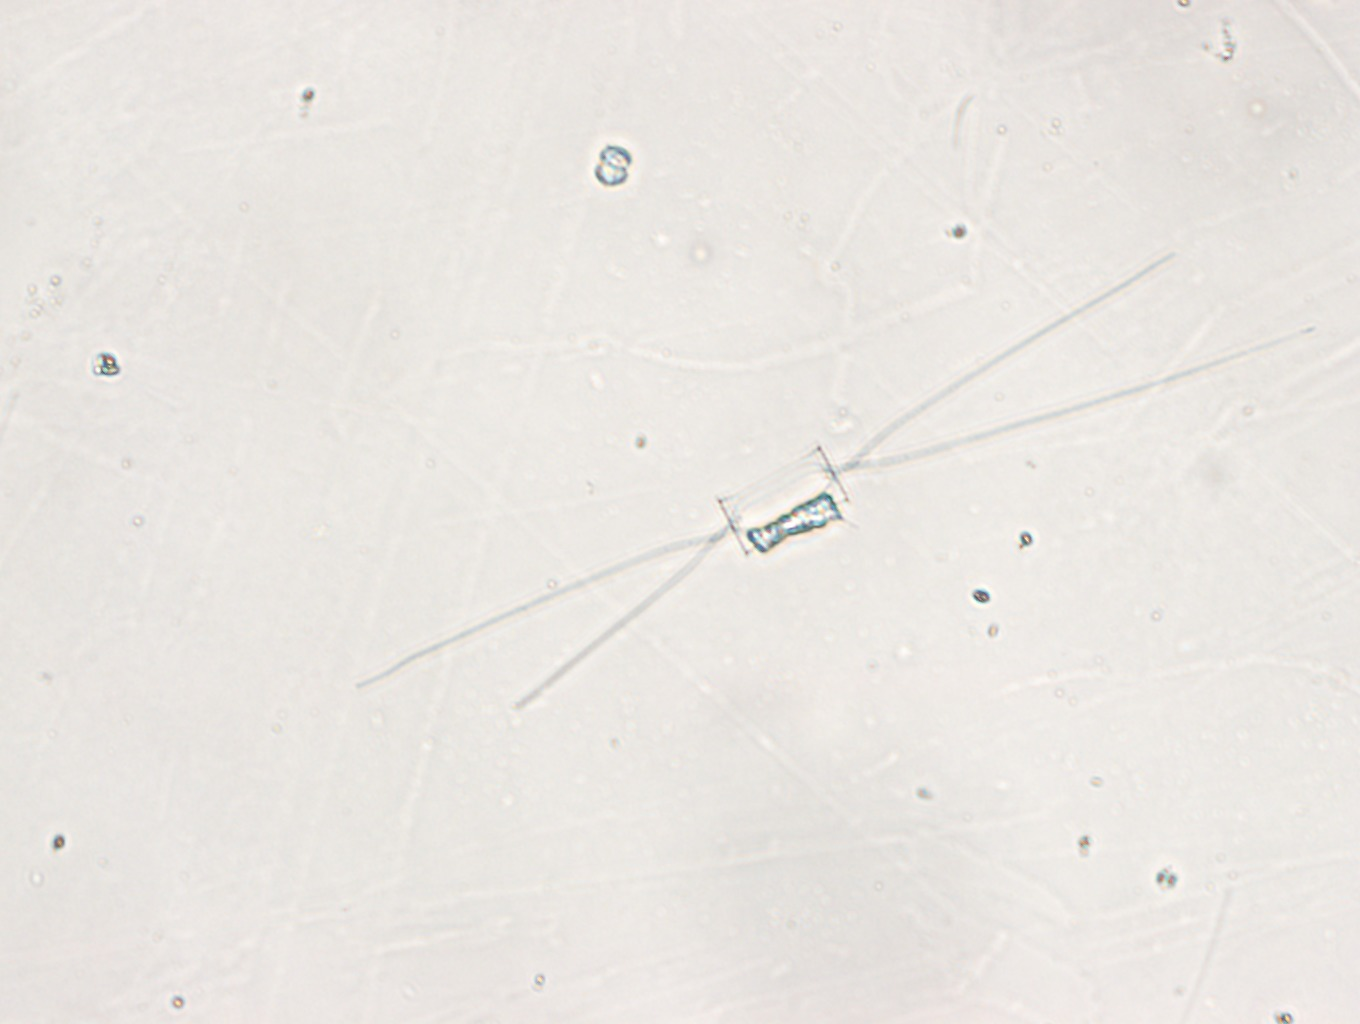chaetoceros: (349, 245, 1315, 717)
